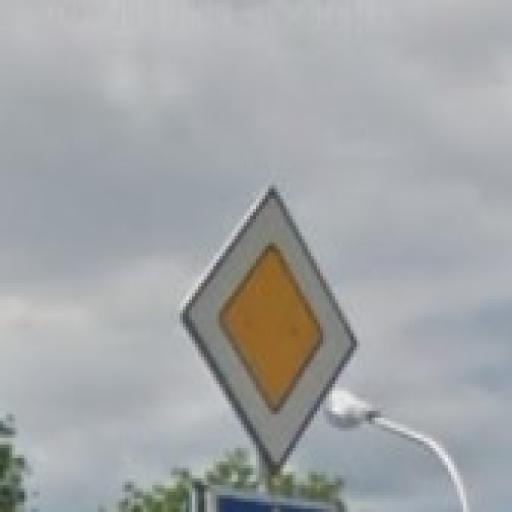traffic_sign: (181, 186, 361, 476)
